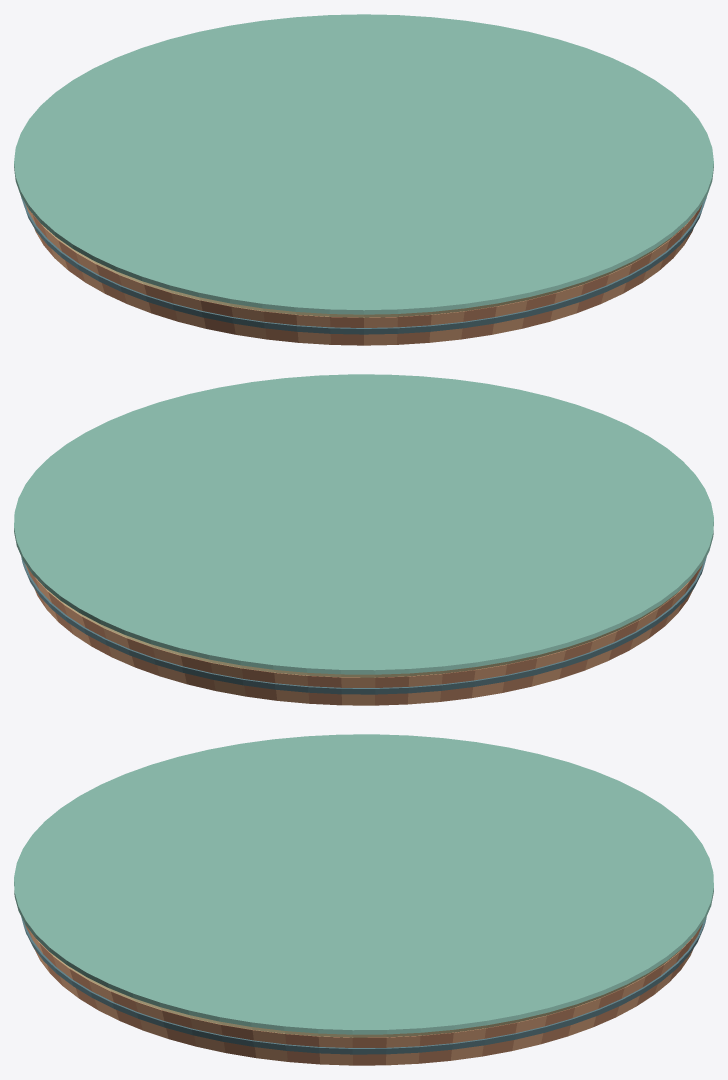
Rendered from FestivalRing.glb.
3 renders of one model, top to bottom at view 1: azimuth 30°, elevation 25°; view 2: azimuth 150°, elevation 25°; view 3: azimuth 270°, elevation 25°, orthographic.
Parts seen in each view (by area): view 1: FestivalRing; view 2: FestivalRing; view 3: FestivalRing.
Boxes of the visible parts, left/top/right/bottom form: FestivalRing: left=14, top=14, right=713, bottom=345; FestivalRing: left=14, top=374, right=713, bottom=705; FestivalRing: left=14, top=734, right=713, bottom=1065.
Bounding box in the file's own units: 12.59 × 1.15 × 12.59.
